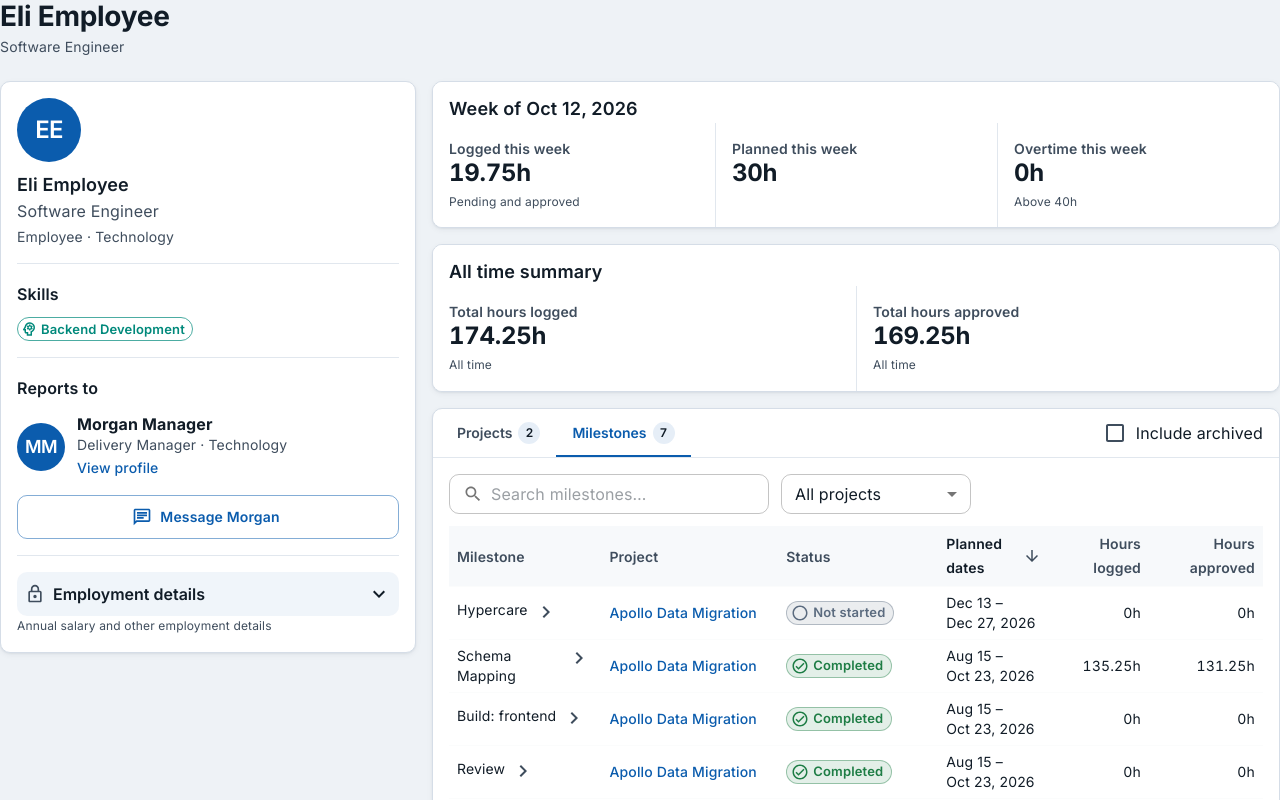
it: My history: someone else's page, or a manager's own › an admin sees archived rows only after Include archived, with the salary behind Employment details
Expected: the 1st heading "Eli Employee" is shown, [0,0,170,33]
Expected: the heading "Reports to" is shown, [17,378,98,398]
Click the checkbox labelled "Include archived". click: coordinates (1183, 433)
box: [1103,421,1263,445]
(page scrolled)
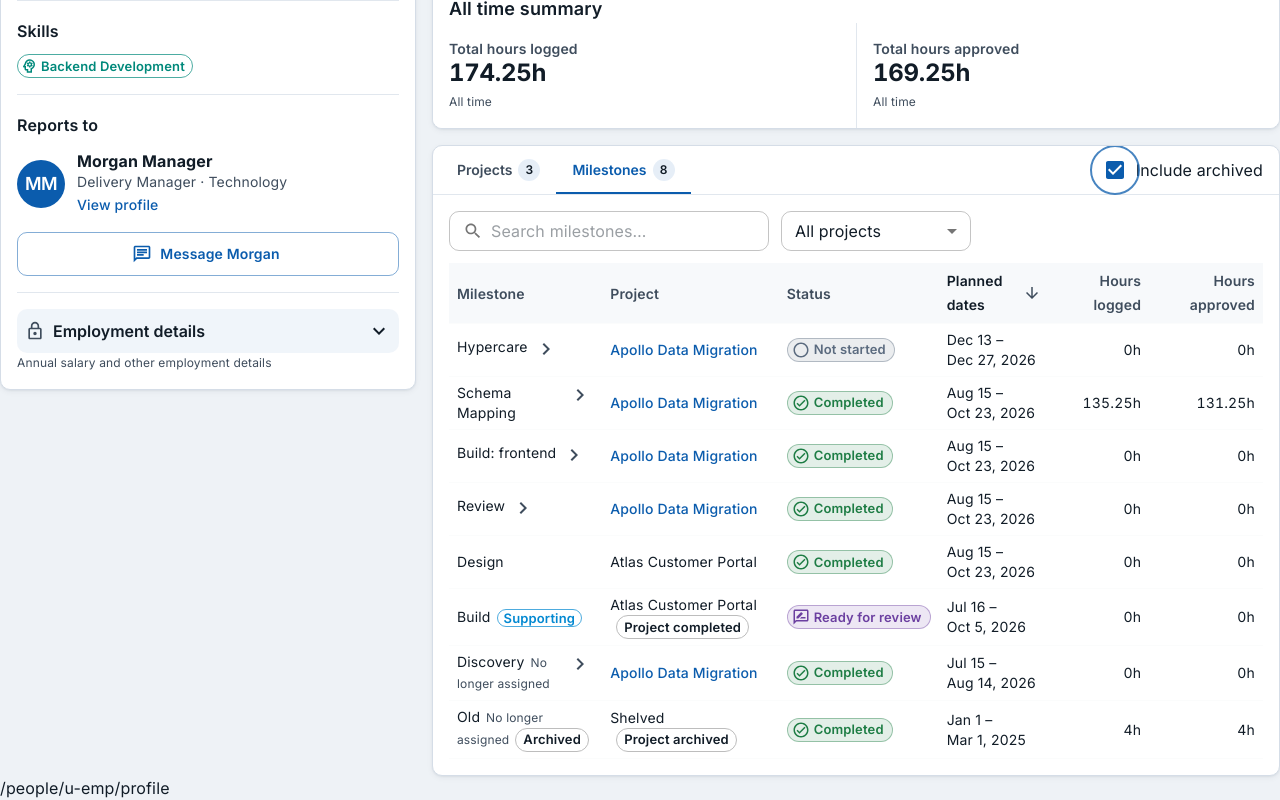
Expected: the tab "Milestones 8" is shown, [556,146,690,194]
Expected: the tab "Projects 3" is shown, [441,146,556,194]
Expected: the text "Archived" is shown, [523,731,581,747]
